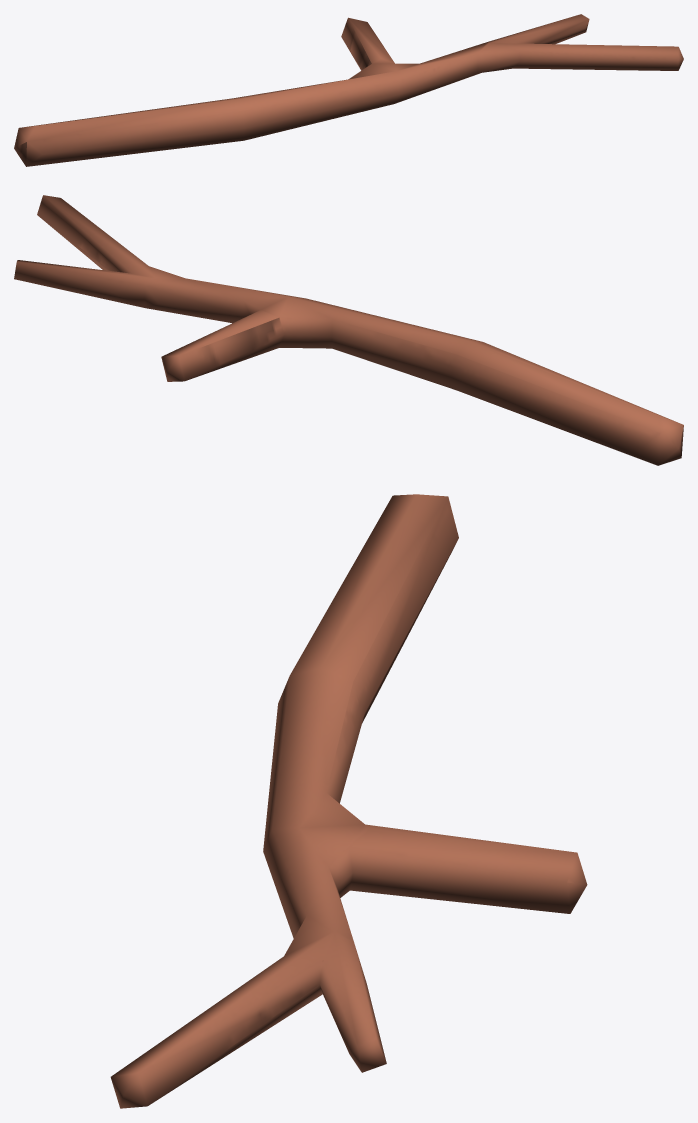
The model's file is Branch1.fbx.
The picture shows the model from 3 angles, top to bottom: view 1: azimuth 30°, elevation 25°; view 2: azimuth 150°, elevation 25°; view 3: azimuth 270°, elevation 25°; orthographic projection. The views are drawn at different scales.
Visible parts, largest first — view 1: Plane.008; view 2: Plane.008; view 3: Plane.008.
Boxes of the visible parts, x1,y1,x2,y2 form: Plane.008: [14, 14, 683, 166]; Plane.008: [14, 195, 683, 465]; Plane.008: [110, 494, 587, 1108].
Size of the model in its own units: 703 by 45.74 by 244.
